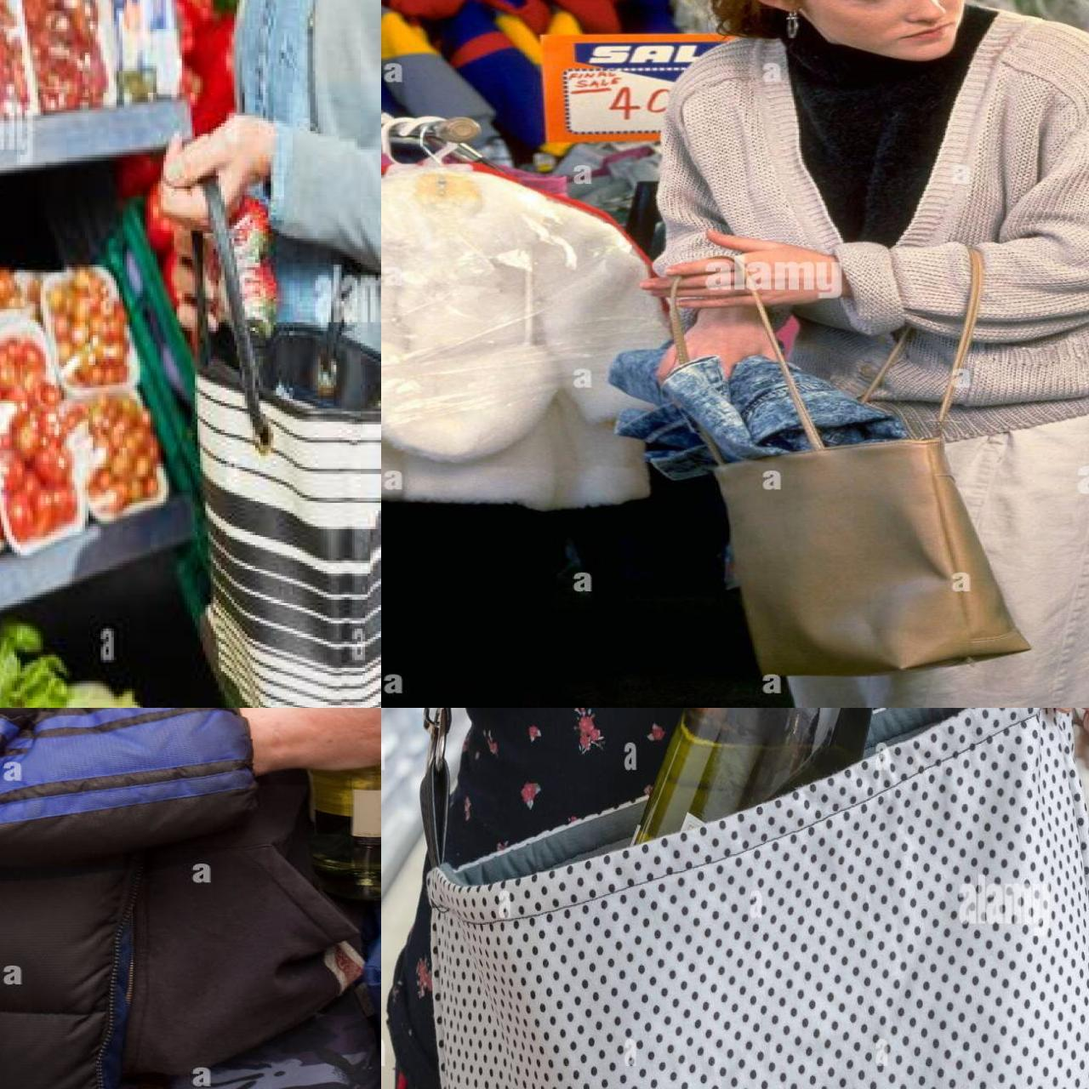shoplifting: (573, 204, 1044, 686), (54, 88, 386, 705)
